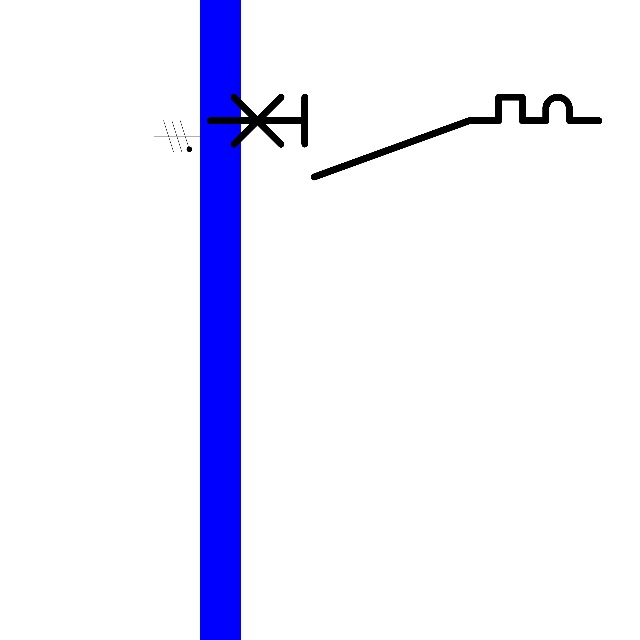interruptor_termomagnetico: (200, 87, 608, 187)
